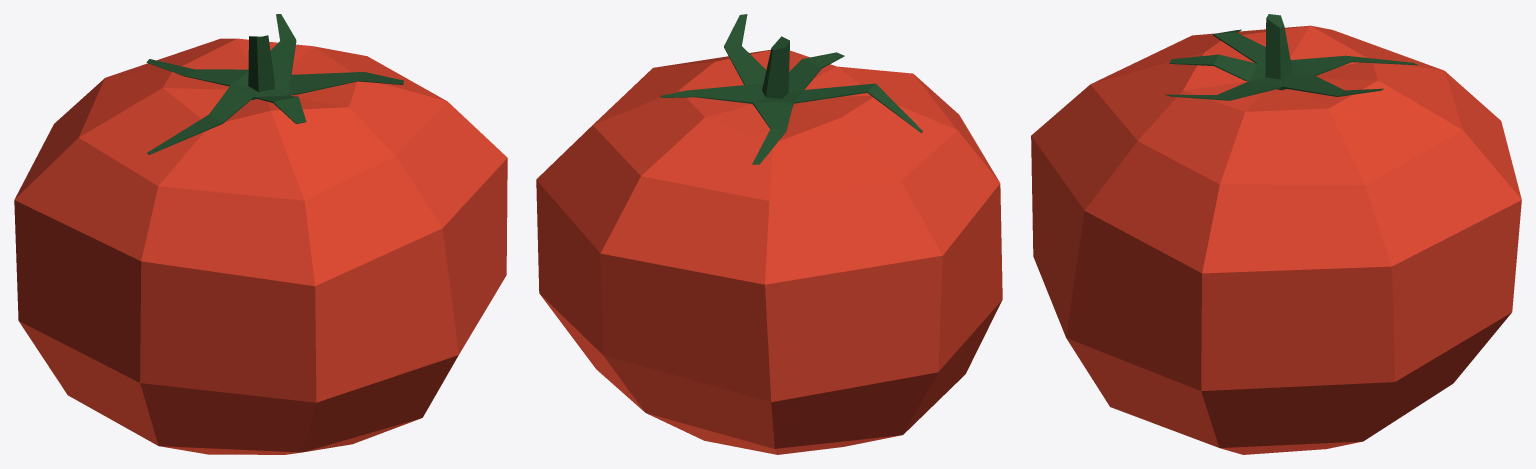
File: Tomato_Raw.fbx
3 views of the same model, side by side, from view 1: azimuth 30°, elevation 25°; view 2: azimuth 150°, elevation 25°; view 3: azimuth 270°, elevation 25° (orthographic). The views are drawn at different scales.
Visible parts, largest first — view 1: SM_Tomato_Raw; view 2: SM_Tomato_Raw; view 3: SM_Tomato_Raw.
Part boxes in pixels (left/top/right/bottom): SM_Tomato_Raw: left=14, top=14, right=507, bottom=454; SM_Tomato_Raw: left=536, top=14, right=1002, bottom=454; SM_Tomato_Raw: left=1031, top=14, right=1521, bottom=454.
Size of the model in its own units: 9.92 by 8.93 by 9.93.
1 material, 1 textured.
